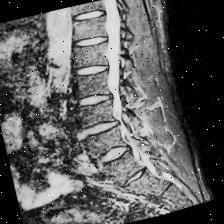disc: (66, 83, 122, 117), (88, 139, 140, 171), (68, 24, 117, 57), (66, 56, 113, 85), (114, 166, 158, 191), (71, 3, 110, 28)
hdisc: (69, 114, 128, 148)
